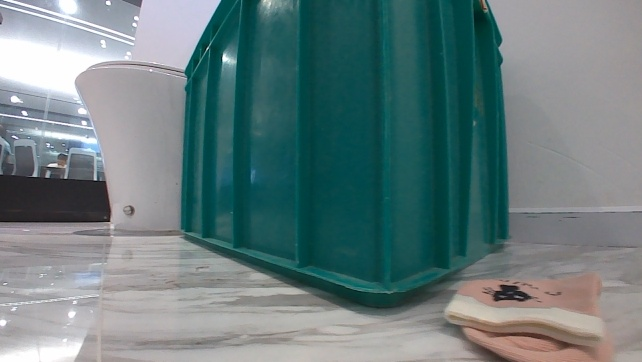socks: (442, 270, 617, 361)
toilet: (69, 55, 186, 235)
